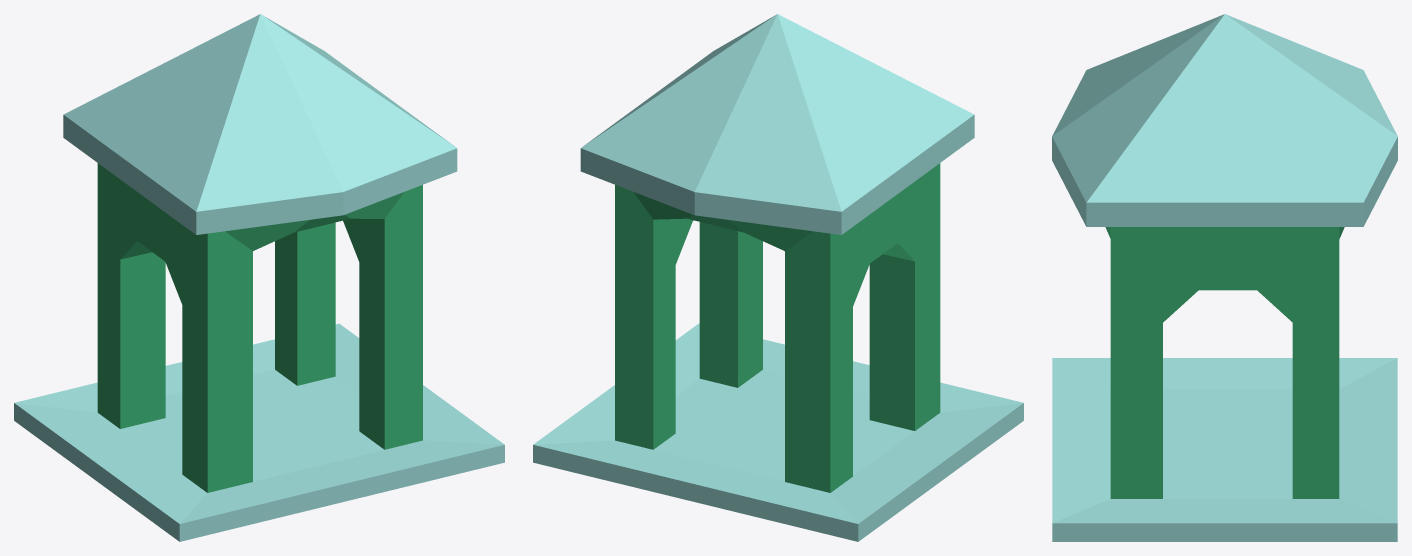
The model's file is house11.fbx.
The picture shows the model from 3 angles, left to right: view 1: azimuth 30°, elevation 25°; view 2: azimuth 150°, elevation 25°; view 3: azimuth 270°, elevation 25°; orthographic projection. The views are drawn at different scales.
Parts seen in each view (by area): view 1: mid_build .008; view 2: mid_build .008; view 3: mid_build .008.
Boxes of the visible parts, x1,y1,x2,y2 form: mid_build .008: [14, 14, 504, 541]; mid_build .008: [533, 14, 1023, 541]; mid_build .008: [1052, 14, 1397, 541].
Size of the model in its own units: 2827 by 3552 by 2497.
